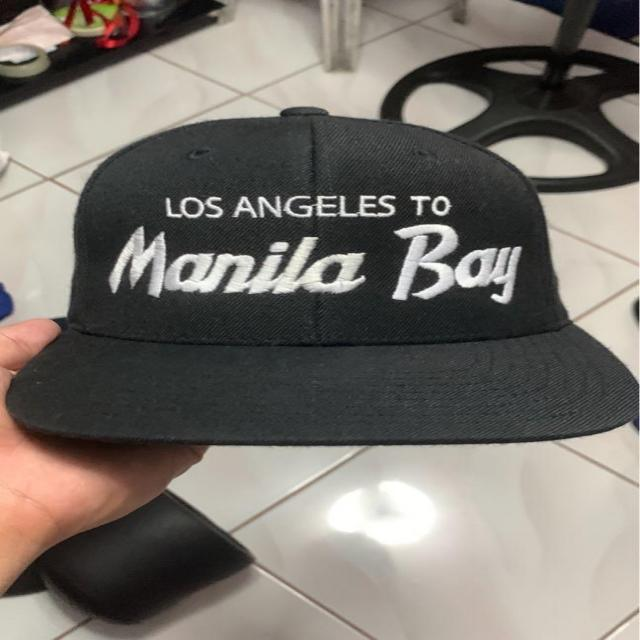Cap: (54, 113, 640, 463)
